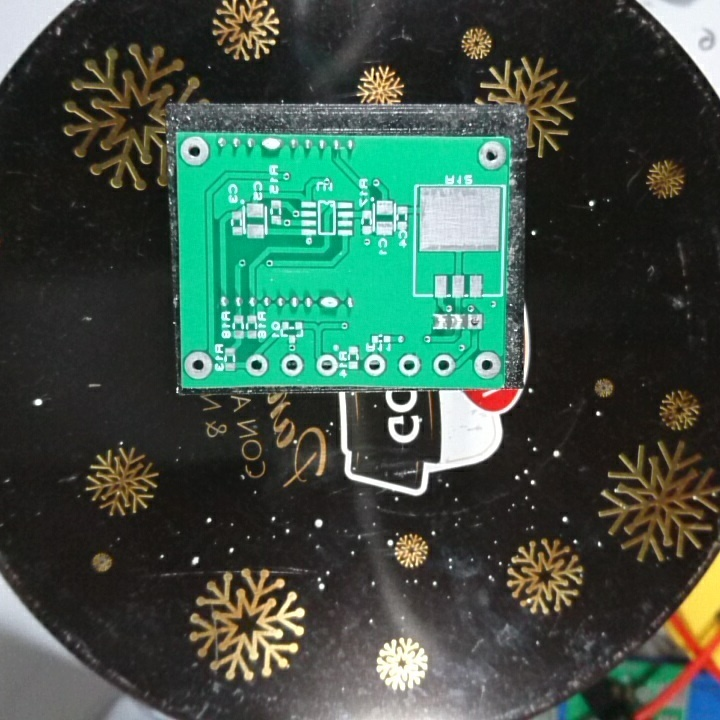F: (178, 132, 211, 172), (183, 349, 214, 382), (476, 138, 507, 170), (473, 350, 501, 381), (360, 352, 389, 381), (430, 352, 458, 380), (395, 352, 423, 380), (244, 352, 270, 378), (279, 354, 306, 379), (313, 352, 338, 378), (464, 312, 485, 332)
P: (316, 292, 342, 313), (258, 135, 284, 156)
